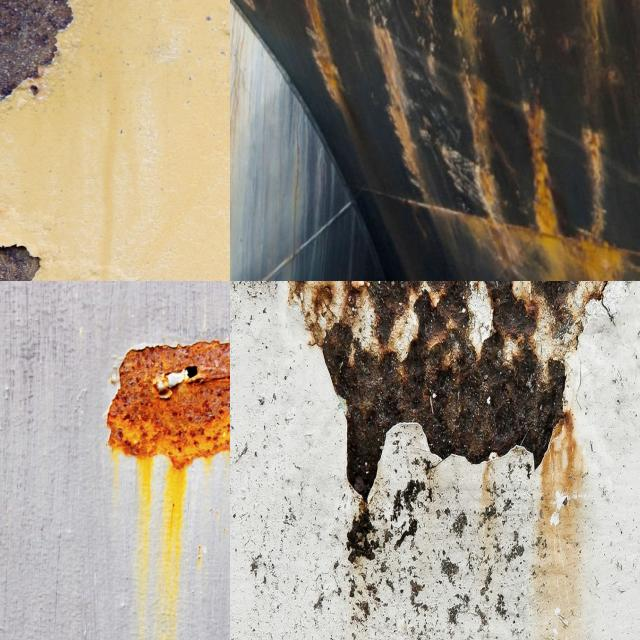Pitting Corrosion: (287, 281, 620, 495), (107, 341, 230, 469)
Uniform Corrosion: (432, 207, 640, 281), (451, 0, 507, 220), (373, 24, 429, 199), (522, 101, 560, 233), (303, 0, 346, 115), (581, 128, 605, 240), (511, 0, 537, 43)
